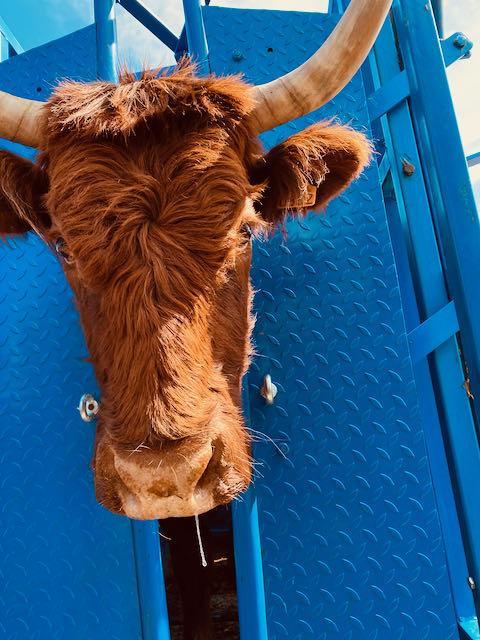muzzles: (83, 438, 259, 530)
